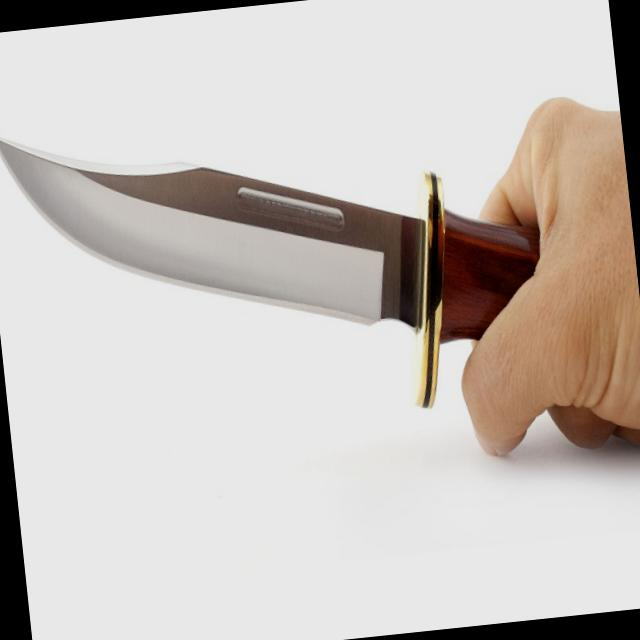knife: (0, 63, 594, 517)
